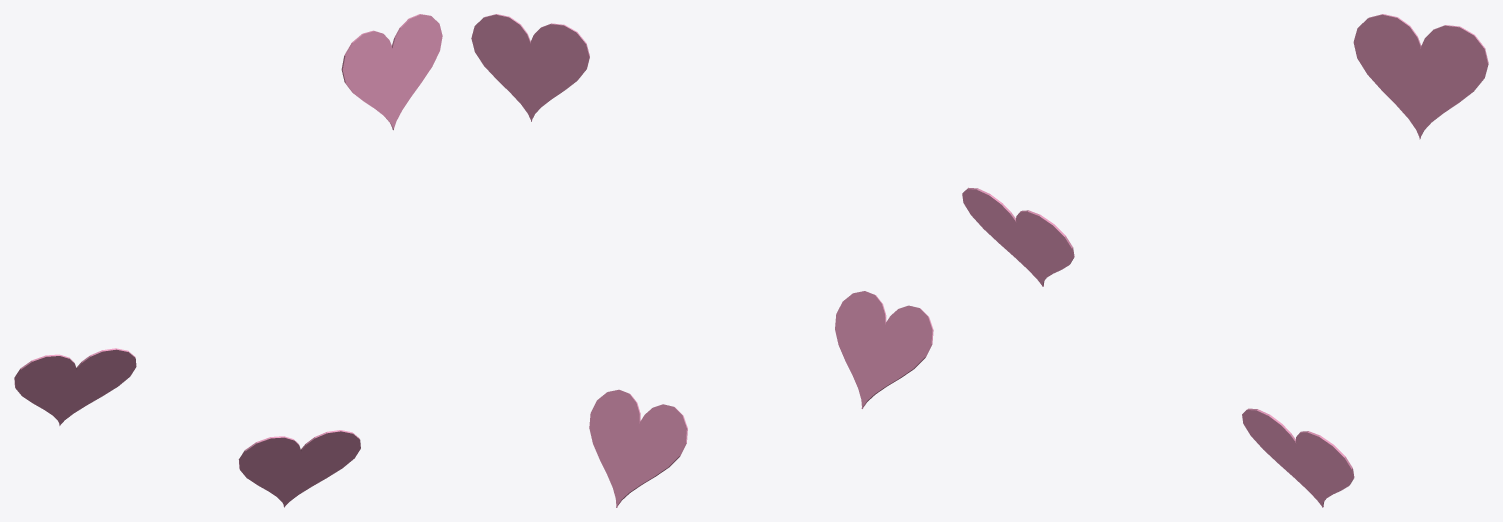
3 renders of one model, left to right at view 1: azimuth 30°, elevation 25°; view 2: azimuth 150°, elevation 25°; view 3: azimuth 330°, elevation 25°, orthographic. The views are drawn at different scales.
Parts seen in each view (by area): view 1: 可隐藏爱心纸饰_2.001; view 2: 可隐藏爱心纸饰_2.001; view 3: 可隐藏爱心纸饰_2.001.
Boxes of the visible parts, <box> form: 可隐藏爱心纸饰_2.001: <box>14,14,442,507</box>; 可隐藏爱心纸饰_2.001: <box>471,14,933,507</box>; 可隐藏爱心纸饰_2.001: <box>962,14,1488,507</box>.
Bounding box in the file's own units: 0.4283 × 0.426 × 0.0722.
